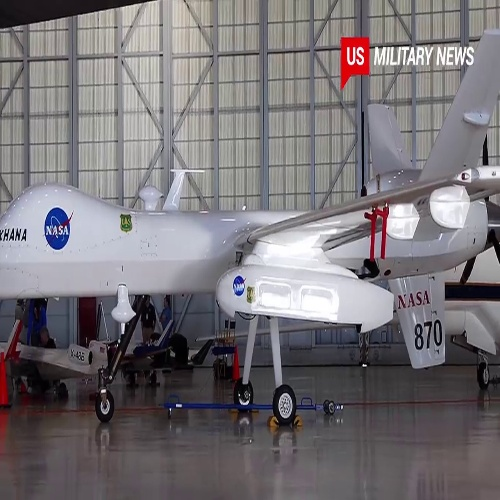uav: (1, 30, 500, 423)
